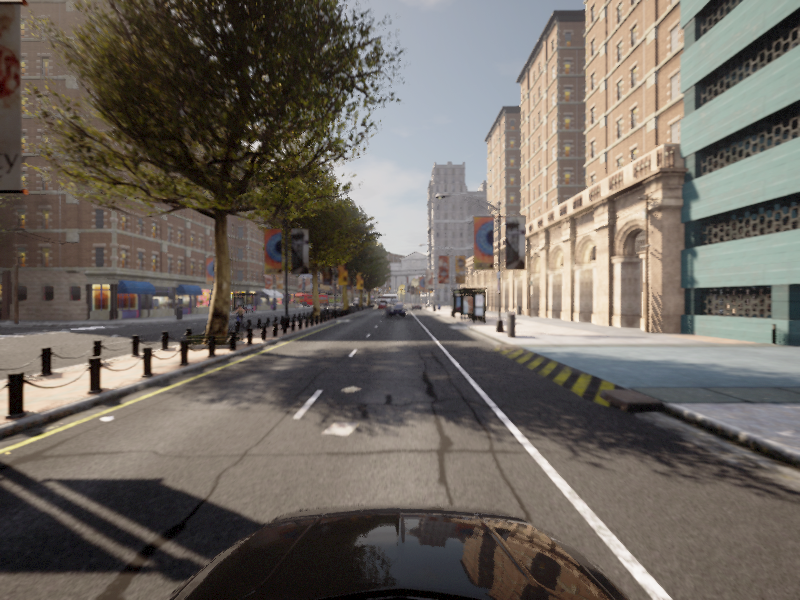vehicle: (228, 304, 249, 328), (206, 304, 230, 323), (384, 305, 406, 318)
